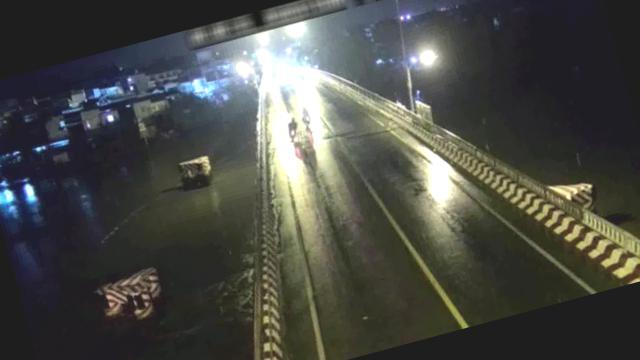Bike: (283, 111, 304, 143), (300, 102, 314, 126)
